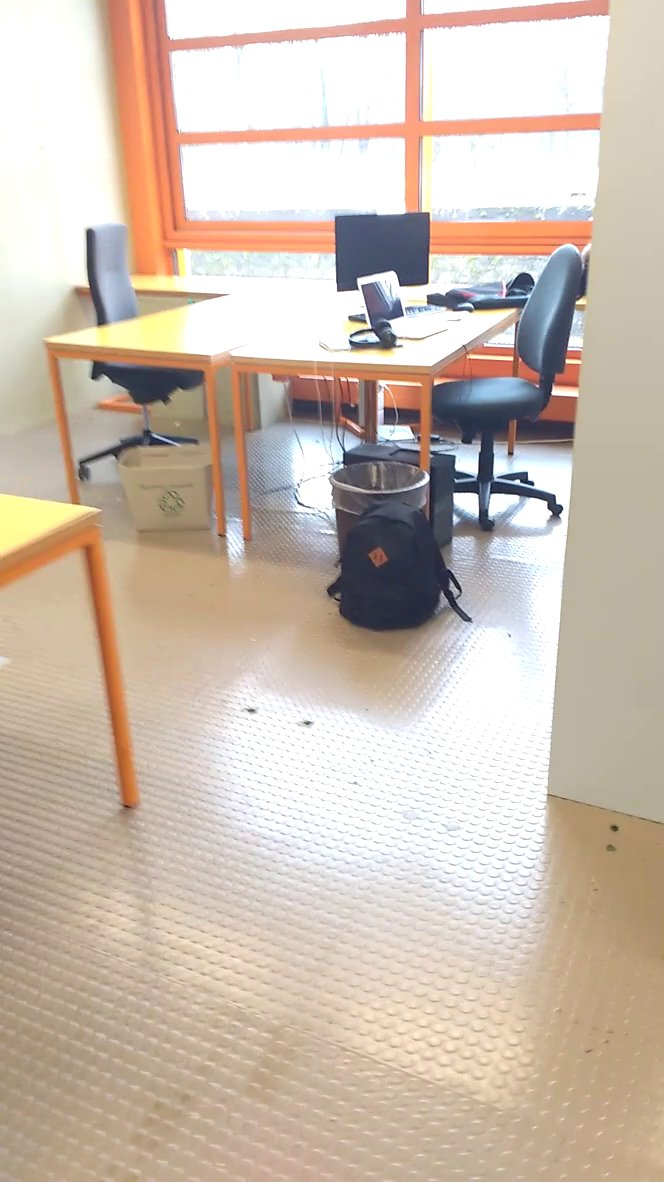bag: (325, 495, 479, 645)
bin: (324, 442, 449, 519)
box: (114, 439, 230, 540)
chair: (420, 230, 594, 536), (71, 212, 219, 408)
laptop: (354, 264, 458, 344)
